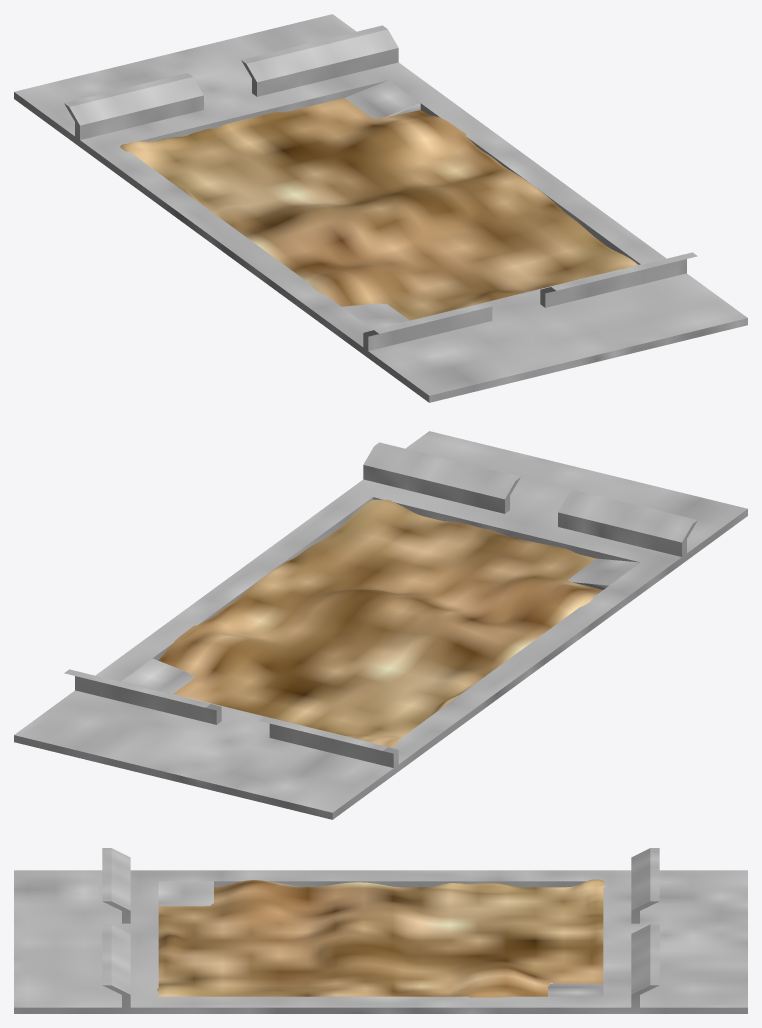
The model's file is Map2.fbx.
3 renders of one model, top to bottom at view 1: azimuth 30°, elevation 25°; view 2: azimuth 150°, elevation 25°; view 3: azimuth 270°, elevation 25°, orthographic. The views are drawn at different scales.
Visible parts, largest first — view 1: Grid, Grid.001; view 2: Grid, Grid.001; view 3: Grid, Grid.001.
Boxes of the visible parts, box(x1,y1,x2,y2) form: Grid: box(14, 14, 747, 402); Grid.001: box(120, 98, 637, 320); Grid: box(14, 431, 747, 819); Grid.001: box(158, 499, 602, 746); Grid: box(14, 848, 747, 1013); Grid.001: box(157, 879, 606, 997).
Bounding box in the file's own units: 23129 × 2243 × 52214.
2 materials, 2 textured.
